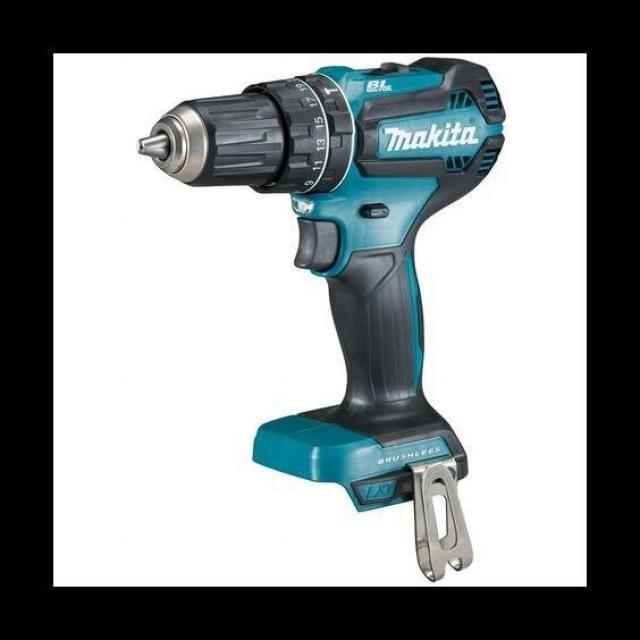drill: (136, 54, 507, 512)
